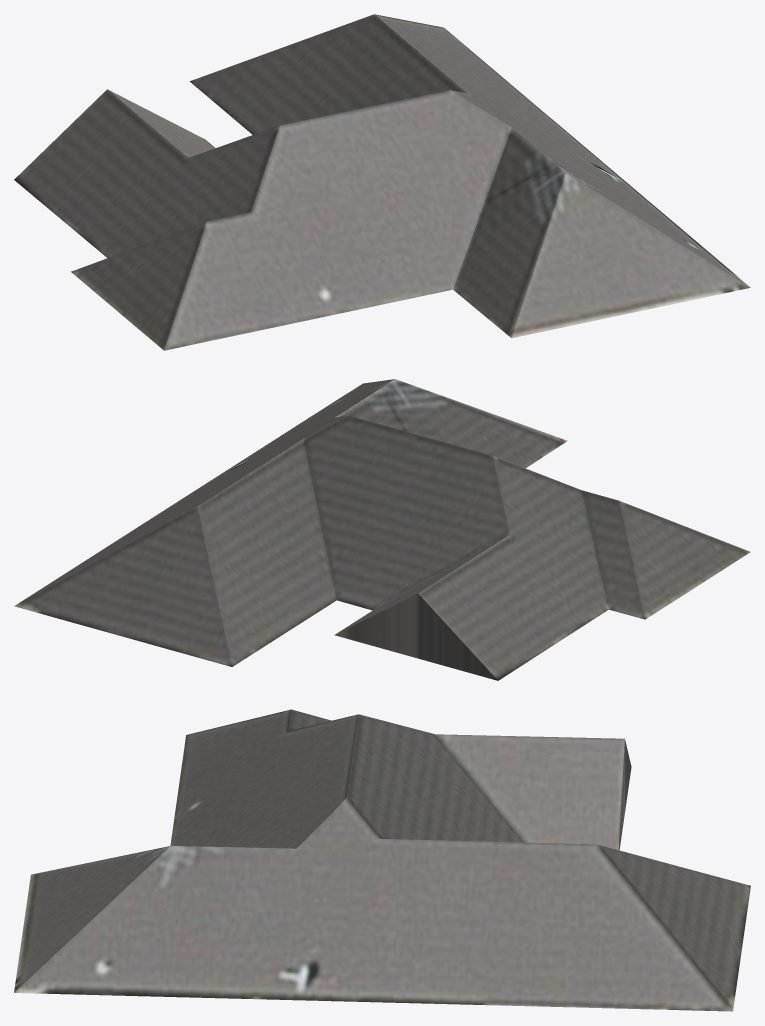
Rendered from CG10_500_036063_0018_roof.obj.
3 renders of one model, top to bottom at view 1: azimuth 30°, elevation 25°; view 2: azimuth 150°, elevation 25°; view 3: azimuth 270°, elevation 25°, orthographic. The views are drawn at different scales.
Parts seen in each view (by area): view 1: CG10_500_036063_0018_roof; view 2: CG10_500_036063_0018_roof; view 3: CG10_500_036063_0018_roof.
Part boxes in pixels (x1,y1,x2,y2): CG10_500_036063_0018_roof: (14, 14, 750, 350); CG10_500_036063_0018_roof: (14, 379, 750, 680); CG10_500_036063_0018_roof: (14, 709, 750, 1011).
Bounding box in the file's own units: 340 × 70 × 383.
Materials: 1 (1 with a texture image).
